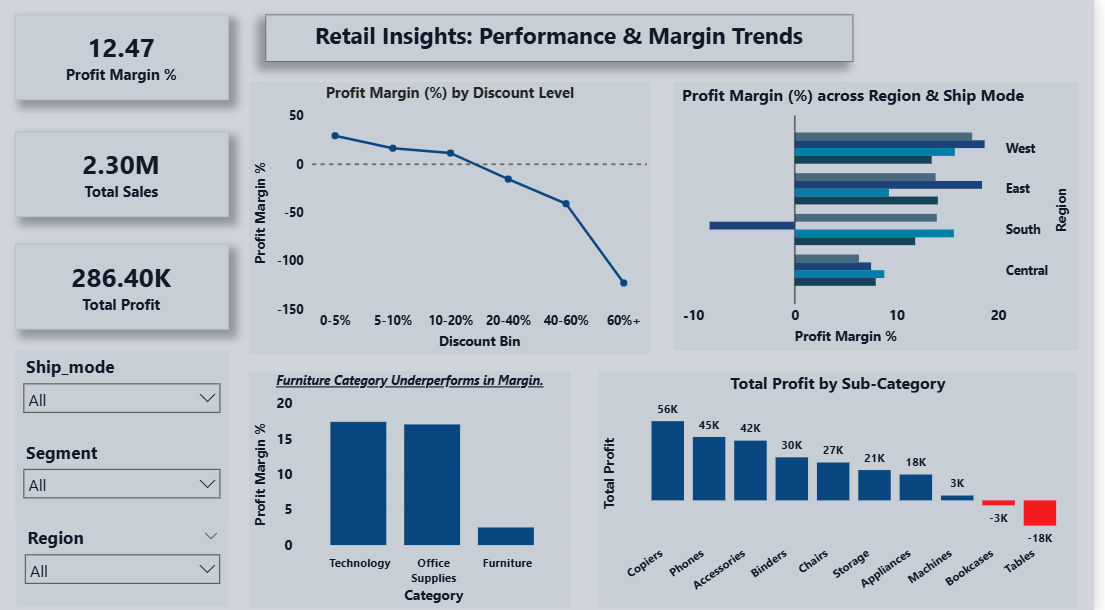

The dashboard page shown, as its layout file describes it:
{"tool":"powerbi","page":{"name":"Retail insights","canvas":[1280,720],"ordinal":0},"visuals":[{"type":"cardVisual","fields":{"Data":["public orders.Total Sales"]},"box":[17.9,155.4,250,100],"z":0},{"type":"cardVisual","fields":{"Data":["public orders.Total Profit"]},"box":[17.9,287.5,250,100],"z":1000},{"type":"cardVisual","fields":{"Data":["public orders.Profit Margin %"]},"box":[17.9,19.6,250,100],"z":2000},{"type":"slicer","fields":{"Values":["public orders.ship_mode"]},"box":[18,412,250,100],"z":3000},{"type":"slicer","fields":{"Values":["public orders.region"]},"box":[20,612,248,100],"z":4000},{"type":"slicer","fields":{"Values":["public orders.segment"]},"box":[18,512,250,100],"z":5000},{"type":"lineChart","title":"Profit Margin (%) by Discount Level","fields":{"Category":["public orders.discount bin"],"Y":["public orders.Profit Margin %"]},"box":[292,98,470,318],"z":6000},{"type":"clusteredColumnChart","title":"Total Profit by Sub-Category","fields":{"Category":["public orders.sub_category"],"Y":["public orders.Total Profit"]},"box":[700,436,560,276],"z":7000},{"type":"clusteredColumnChart","title":"Furniture Category Underperforms in Margin.","fields":{"Category":["public orders.category"],"Y":["public orders.Profit Margin %"]},"box":[292,436,376,276],"z":8000},{"type":"clusteredBarChart","title":"Profit Margin (%) across Region & Ship Mode","fields":{"Y":["public orders.Profit Margin %"],"Category":["public orders.region"],"Series":["public orders.ship_mode"]},"box":[788,98,474,314],"z":9000},{"type":"textbox","box":[310,19,687,55],"z":10000}]}

Visuals, with their boxes in screenshot pixels (x1, y1, x2, y2), scaled from the page's 1280x720 canvas onto the 1105x610 screenshot:
cardVisual - public orders.Total Sales: l=15, t=132, r=231, b=216
cardVisual - public orders.Total Profit: l=15, t=244, r=231, b=328
cardVisual - public orders.Profit Margin %: l=15, t=17, r=231, b=101
slicer - public orders.ship_mode: l=16, t=349, r=231, b=434
slicer - public orders.region: l=17, t=518, r=231, b=603
slicer - public orders.segment: l=16, t=434, r=231, b=518
"Profit Margin (%) by Discount Level" lineChart: l=252, t=83, r=658, b=352
"Total Profit by Sub-Category" clusteredColumnChart: l=604, t=369, r=1088, b=603
"Furniture Category Underperforms in Margin." clusteredColumnChart: l=252, t=369, r=577, b=603
"Profit Margin (%) across Region & Ship Mode" clusteredBarChart: l=680, t=83, r=1089, b=349
textbox: l=268, t=16, r=861, b=63
